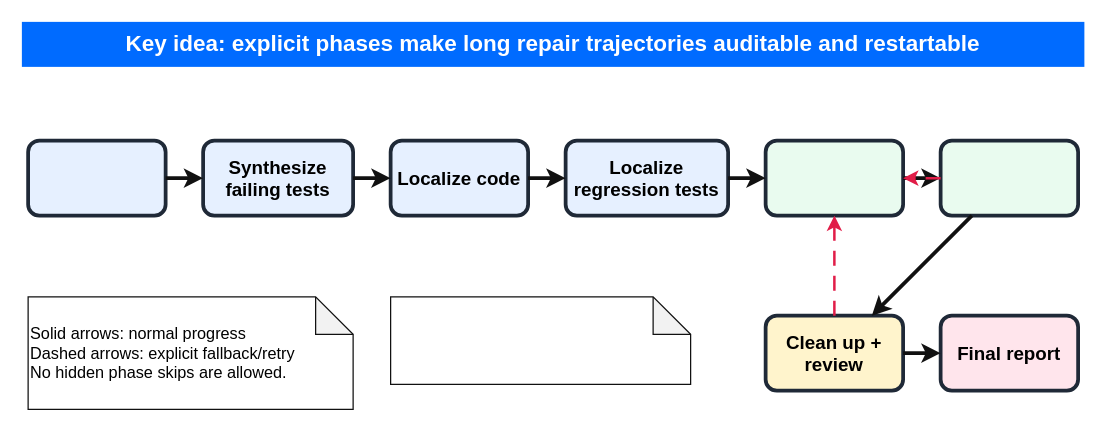
The diagram is 1105 pixels wide and 431 high, and some of its shapes have lost their labels. The shapes that lost their labels are listed below. From the top down, each one's box as (x1, y1, x2, y2) in pixels, then its label:
(26, 138, 167, 217): Reproduce issue
(763, 138, 904, 217): Implement fix
(938, 138, 1079, 217): Verify patch
(389, 296, 691, 384): Late-stage failures return to repair, not to a silent best-effort submission.
